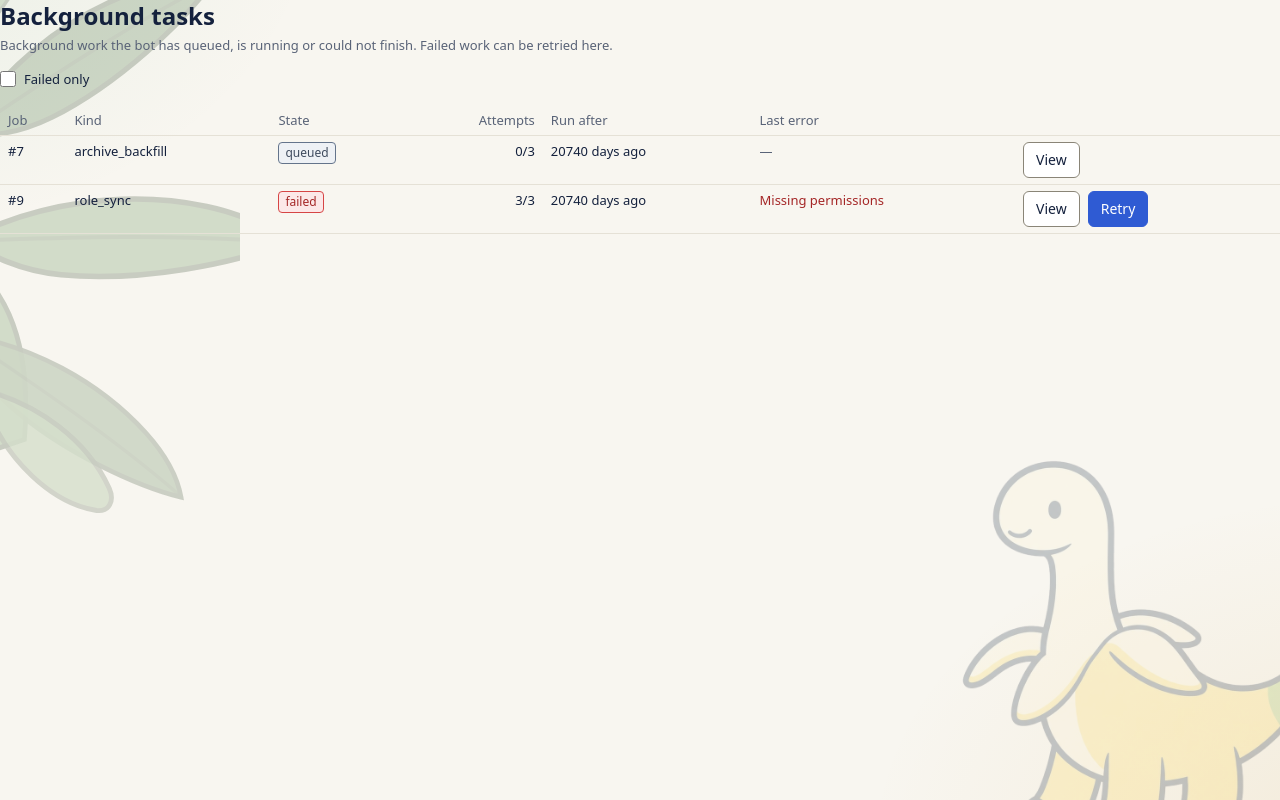
JobsPage › a 409 refusal renders inline instead of a generic failure
Expected: the text "#9" is shown, [0,185,66,234]
What coordinates should you click on to do the following:
click the button "Retry"
I would click on:
 (1118, 209)
Its box is [1088,191,1148,227].
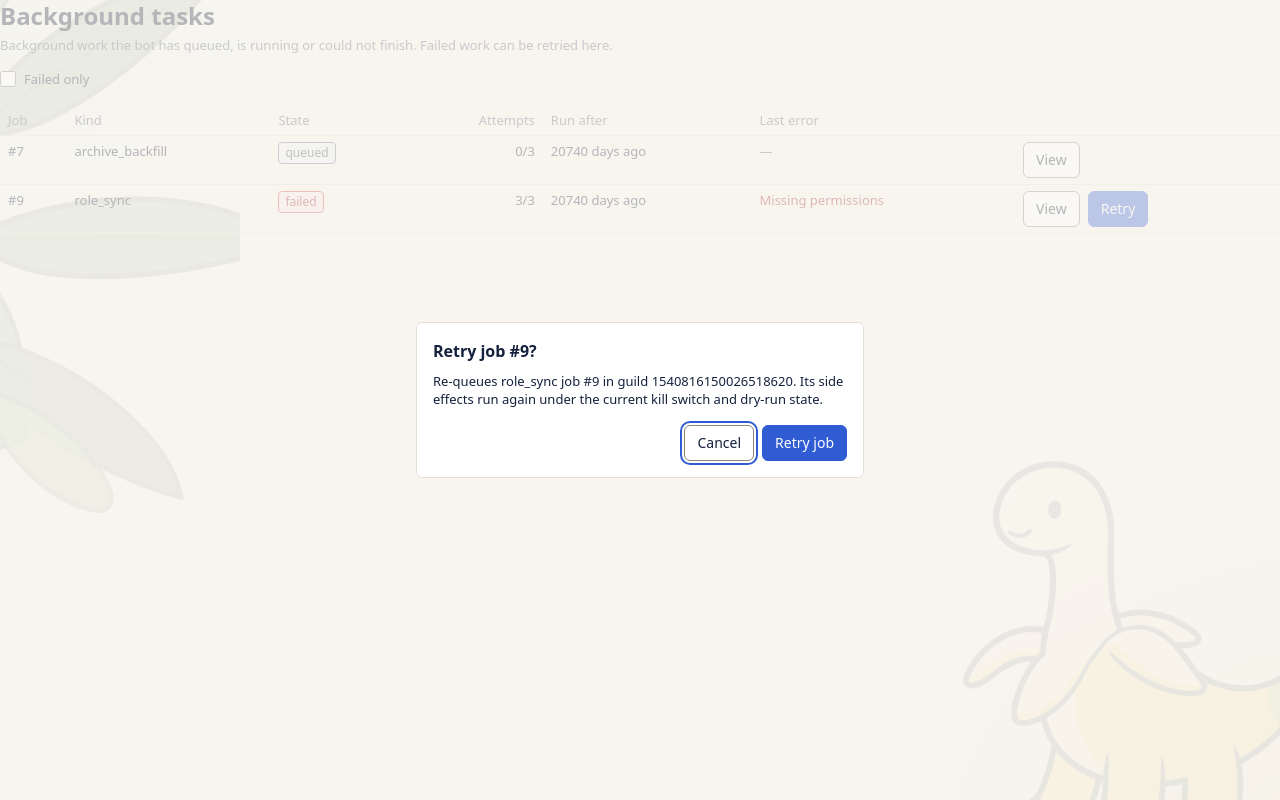
What coordinates should you click on to do the following:
click the button "Retry job"
I would click on:
 (805, 443)
Its box is [762,425,847,461].
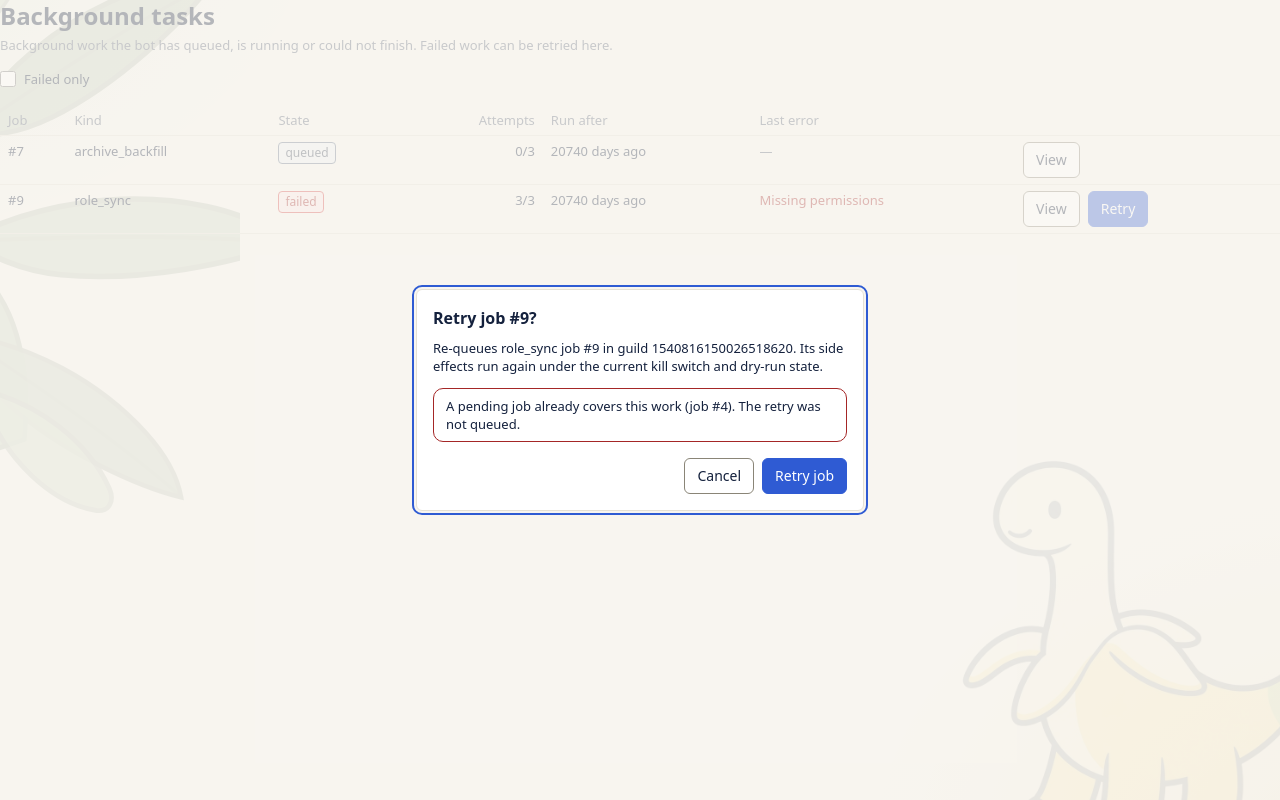
Now the message "A pending job already covers this work (job #4). The retry was not queued." is shown, box [433,388,847,442]
Now the message shows "job #4", box [446,397,821,433]
